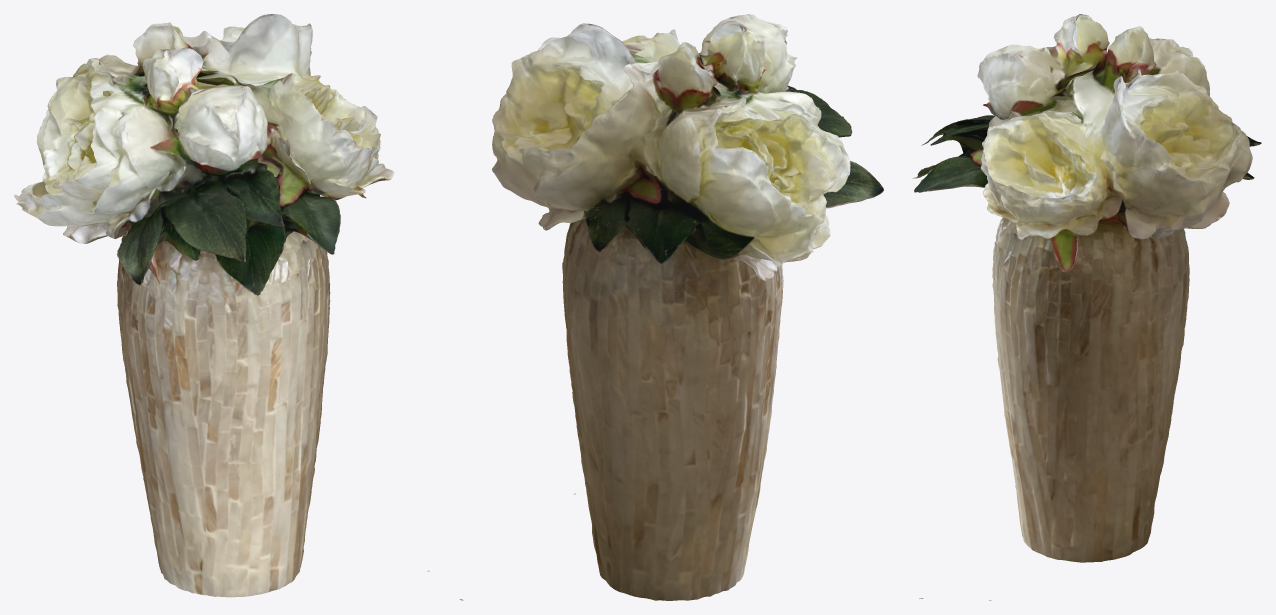
File: vase.glb
3 renders of one model, left to right at view 1: azimuth 30°, elevation 25°; view 2: azimuth 150°, elevation 25°; view 3: azimuth 270°, elevation 25°, orthographic. The views are drawn at different scales.
Visible parts, largest first — view 1: Object_4; view 2: Object_4; view 3: Object_4.
Boxes of the visible parts, x1,y1,x2,y2 form: Object_4: [14, 14, 463, 600]; Object_4: [492, 14, 883, 600]; Object_4: [912, 14, 1261, 600].
Size of the model in its own units: 0.2712 by 0.4325 by 0.2785.
Materials: 1 (1 with a texture image).
